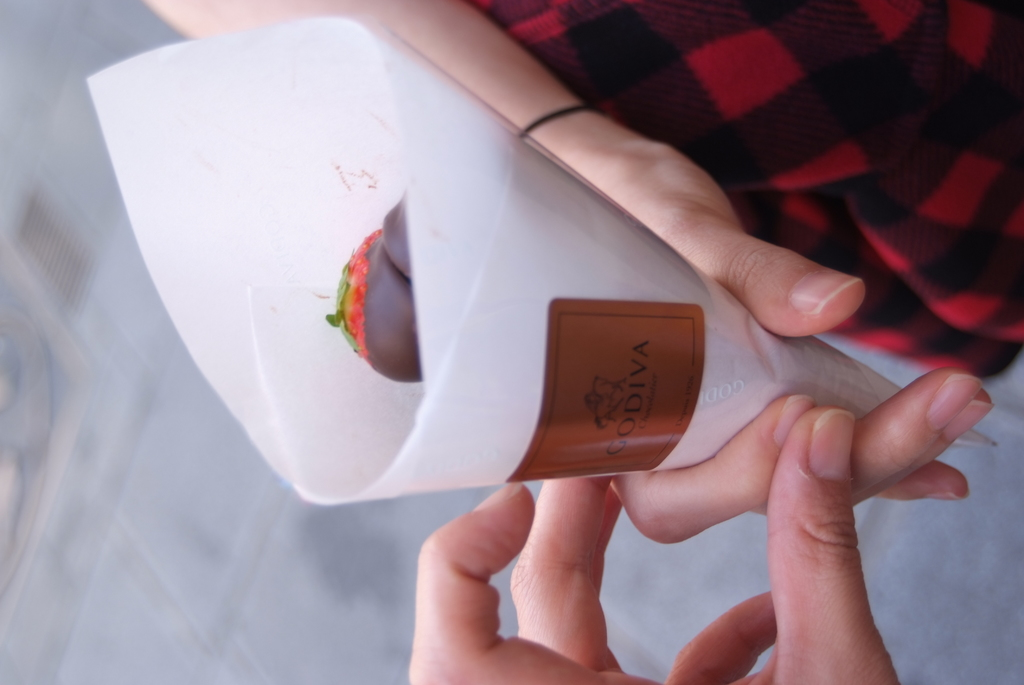Human_hand: (551, 135, 995, 538), (401, 404, 909, 684)
